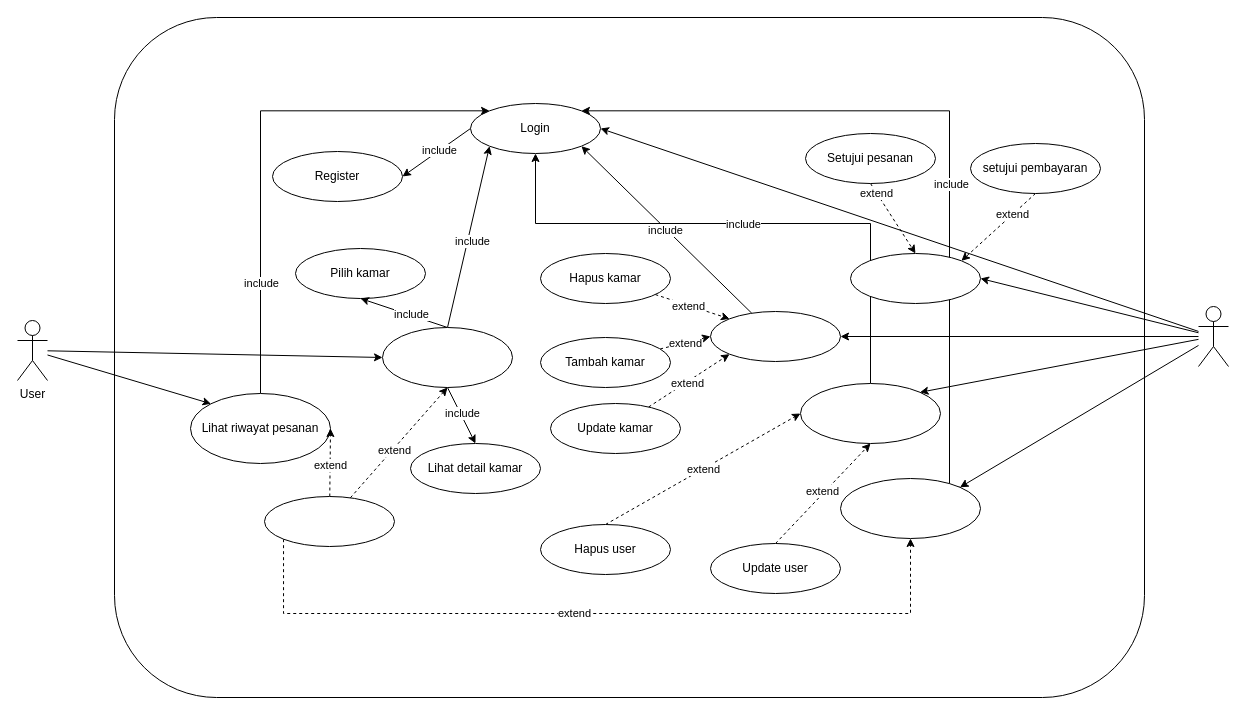
Some shapes in this 1248 by 715 pixel diagram are drawn without their labels. The shapes that lost their labels are listed below. From the top down, each one's box as (x1, y1, x2, y2) in pixels, then its label:
(850, 252, 980, 304): Konfirmasi pesanan
(710, 310, 840, 362): Kelola kamar
(1198, 306, 1228, 366): Admin
(382, 326, 512, 388): Pesan kamar
(800, 382, 940, 444): Lihat semua user
(264, 496, 394, 546): Cetak Struk
(840, 478, 980, 538): Lihat semua transaksi
